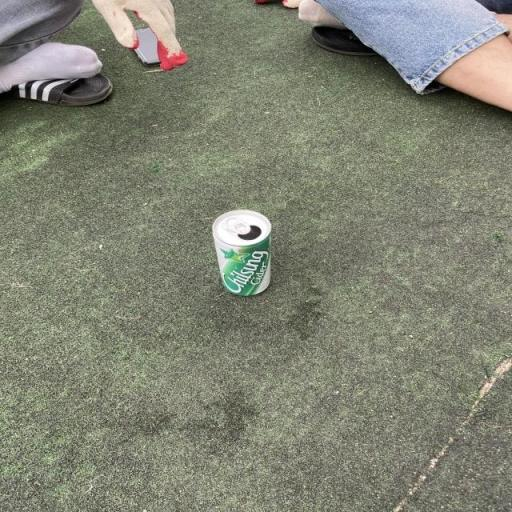metal: (198, 202, 292, 316)
